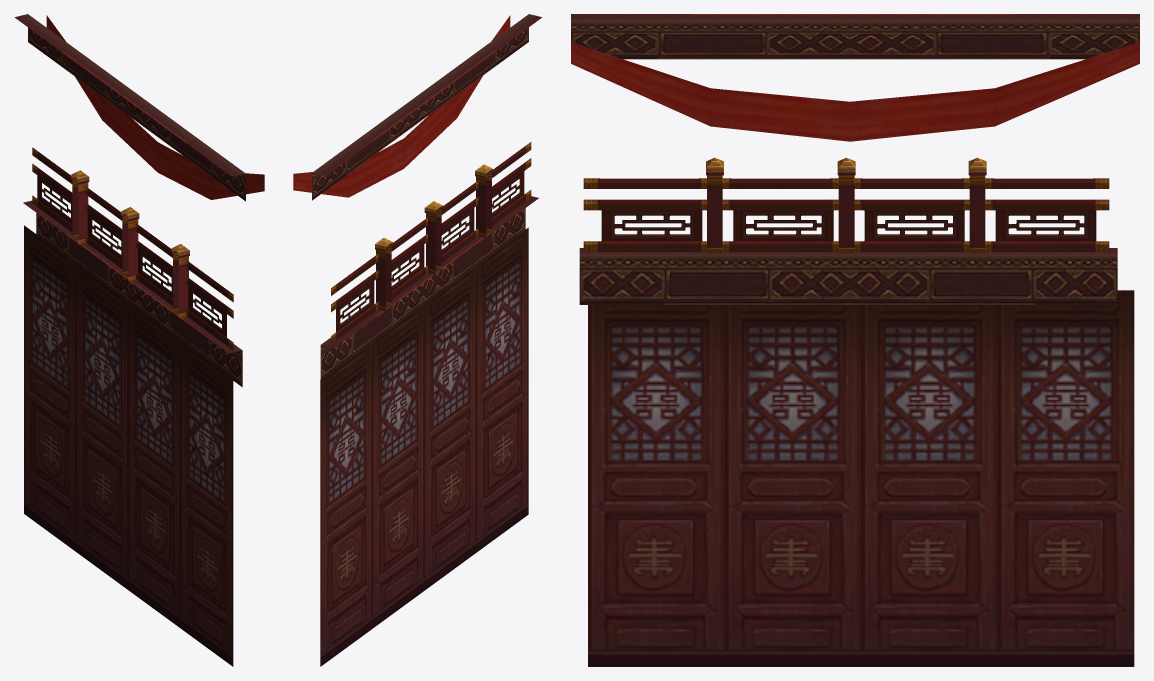
The model's file is fb_baitang_cemianqiangbi02.FBX.
3 renders of one model, left to right at view 1: azimuth 30°, elevation 25°; view 2: azimuth 150°, elevation 25°; view 3: azimuth 270°, elevation 25°, orthographic. The views are drawn at different scales.
Visible parts, largest first — view 1: fb_baitang_cemianqiangbi02; view 2: fb_baitang_cemianqiangbi02; view 3: fb_baitang_cemianqiangbi02.
Part boxes in pixels (x1=…): fb_baitang_cemianqiangbi02: x1=15, y1=14, x2=264, y2=666; fb_baitang_cemianqiangbi02: x1=293, y1=14, x2=541, y2=666; fb_baitang_cemianqiangbi02: x1=571, y1=14, x2=1139, y2=666.
Size of the model in its own units: 46.02 by 636 by 505.
